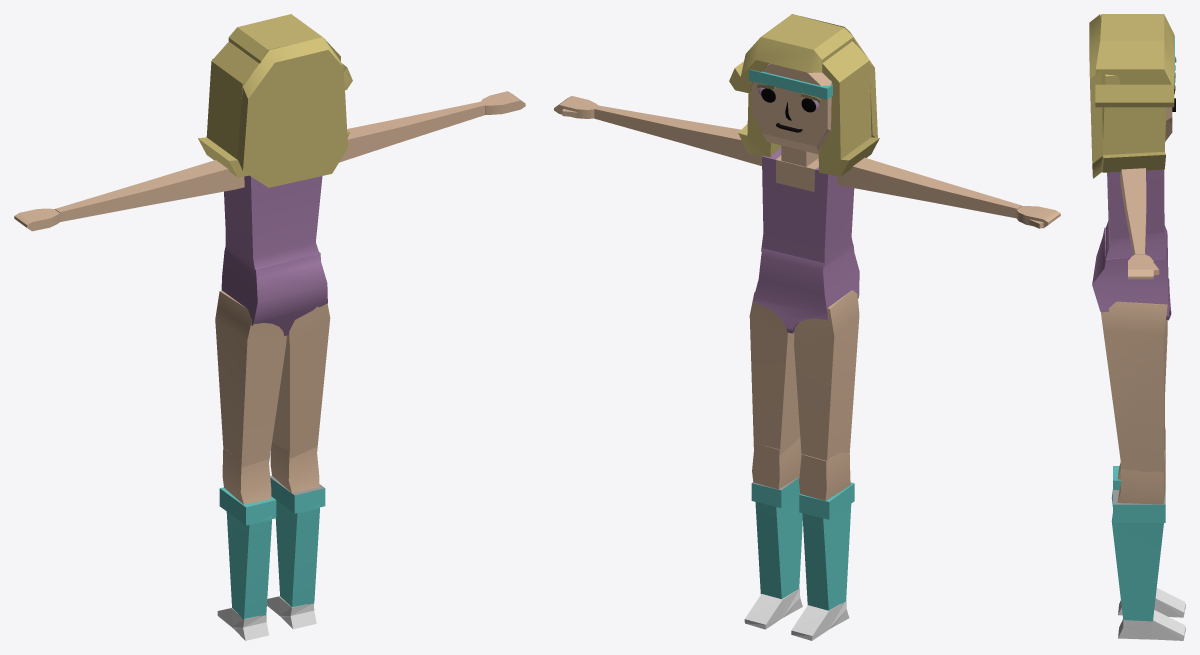
Rendered from girl 1.fbx.
3 renders of one model, left to right at view 1: azimuth 30°, elevation 25°; view 2: azimuth 150°, elevation 25°; view 3: azimuth 270°, elevation 25°, orthographic. The views are drawn at different scales.
Visible parts, largest first — view 1: pCube6, pCube16, pCube8, pCube18, pCube115, pCube20, pCube19, pCube25, pCube4, pCube26, pCube3, pCube24 (+5 smaller); view 2: pCube16, pCube8, pCube20, pCube18, pCube19, pCube115, pCube4, pCube3, pCube1, pCube25, pCube26, pCube21 (+5 smaller); view 3: pCube18, pCube3, pCube19, pCube5, pCube8, pCube115, pCube26, pCube6, pCube21, pCube23, pCube22, pCube46 (+2 smaller).
Boxes of the visible parts, box(x1,y1,x2,y2) form: pCube6: box(237, 37, 347, 187); pCube16: box(215, 290, 286, 468); pCube8: box(224, 175, 322, 269); pCube18: box(272, 303, 330, 458); pCube115: box(221, 247, 327, 336); pCube20: box(222, 448, 271, 619); pCube19: box(270, 443, 319, 607); pCube25: box(55, 160, 244, 221); pCube4: box(198, 41, 258, 177); pCube26: box(339, 101, 485, 162); pCube3: box(228, 14, 352, 90); pCube24: box(219, 487, 276, 525); pCube16: box(794, 290, 859, 464); pCube8: box(761, 147, 854, 266); pCube20: box(799, 452, 851, 610); pCube18: box(749, 292, 800, 456); pCube19: box(752, 438, 802, 599); pCube115: box(752, 244, 859, 333); pCube4: box(818, 41, 879, 176); pCube3: box(729, 14, 853, 92); pCube1: box(751, 63, 831, 154); pCube25: box(836, 157, 1021, 218); pCube26: box(594, 105, 761, 165); pCube21: box(744, 588, 802, 629); pCube18: box(1101, 301, 1167, 471); pCube3: box(1095, 14, 1174, 107); pCube19: box(1111, 450, 1165, 621); pCube5: box(1101, 74, 1166, 172); pCube8: box(1105, 169, 1164, 260); pCube115: box(1092, 225, 1171, 320); pCube26: box(1120, 168, 1146, 254); pCube6: box(1089, 14, 1103, 178); pCube21: box(1118, 610, 1185, 640); pCube23: box(1113, 490, 1165, 522); pCube22: box(1118, 588, 1185, 617); pCube46: box(1128, 254, 1153, 279).
Bounding box in the file's own units: 9.28 × 10.5 × 1.54.
